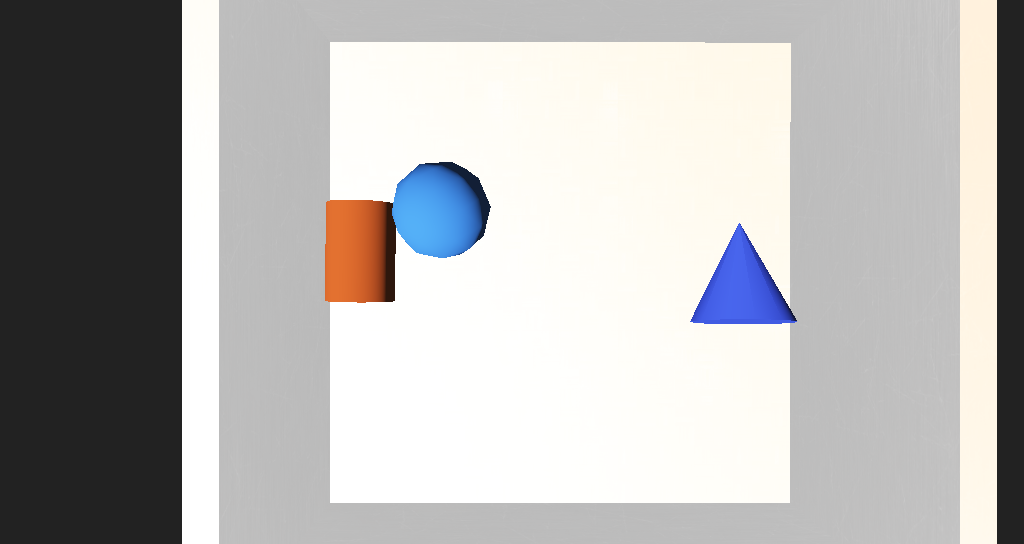cone: (350, 234, 404, 282)
cylinder: (579, 239, 660, 296)
sphere: (401, 215, 461, 262)
